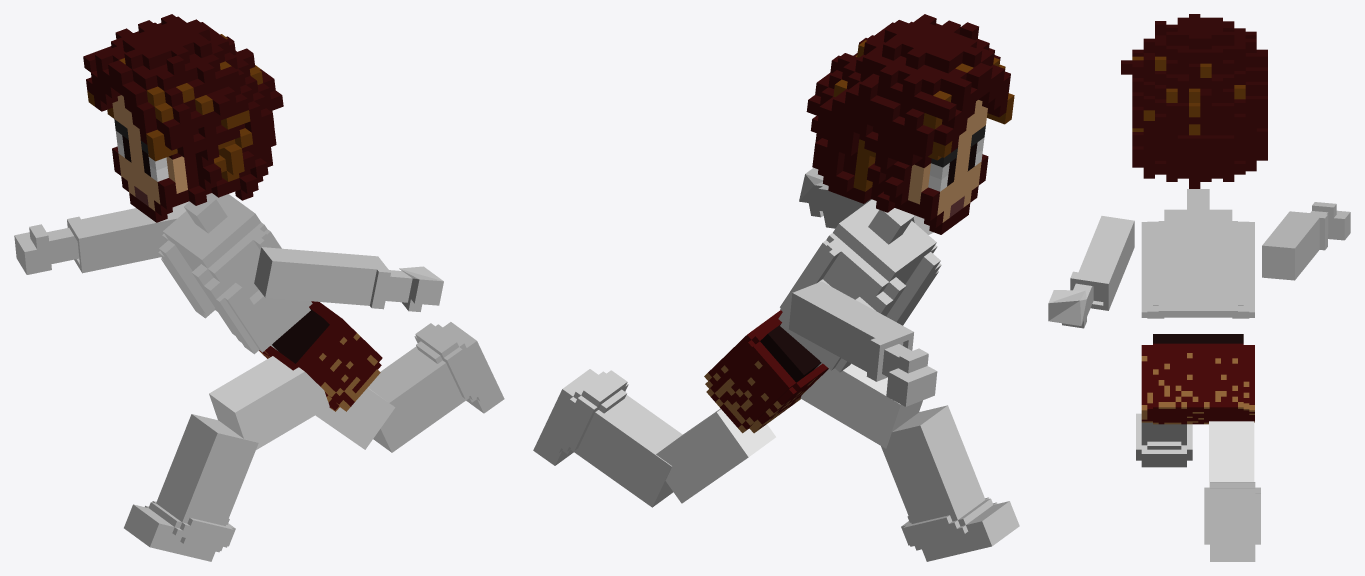
Rendered from POS3.fbx.
3 views of the same model, side by side, from view 1: azimuth 30°, elevation 25°; view 2: azimuth 150°, elevation 25°; view 3: azimuth 270°, elevation 25° (orthographic). The views are drawn at different scales.
Parts seen in each view (by area): view 1: POS3; view 2: POS3; view 3: POS3.
Boxes of the visible parts, x1=… form: POS3: x1=14, y1=14, x2=504, y2=561; POS3: x1=533, y1=14, x2=1019, y2=561; POS3: x1=1048, y1=14, x2=1350, y2=561.
Size of the model in its own units: 156 by 181 by 113.
